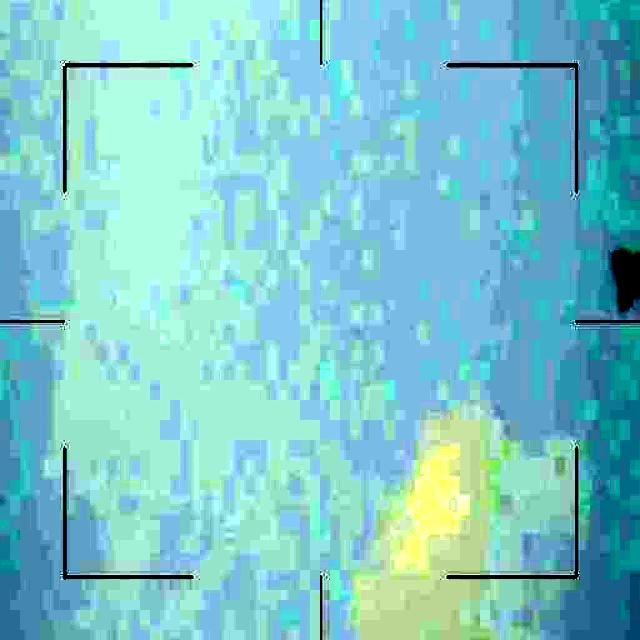bird: (609, 241, 640, 319)
